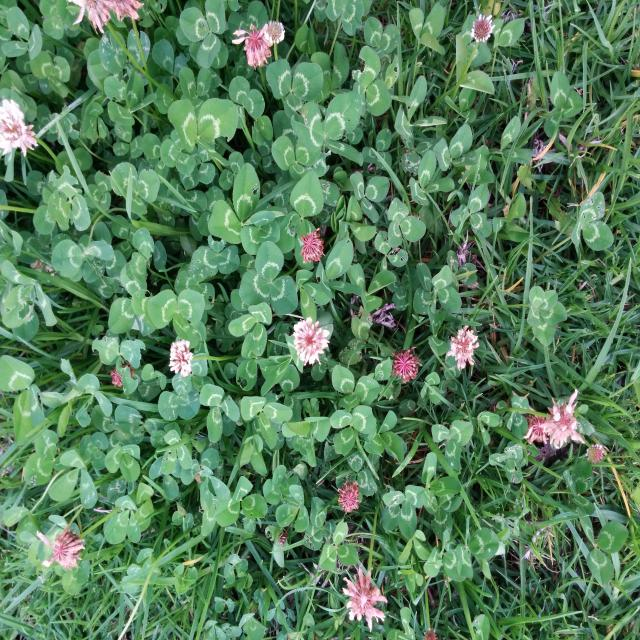Four Leaf Clover: (527, 286, 567, 346)
